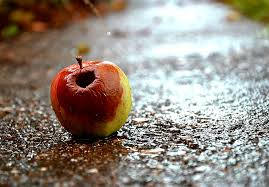damaged_apple: (50, 60, 133, 138)
